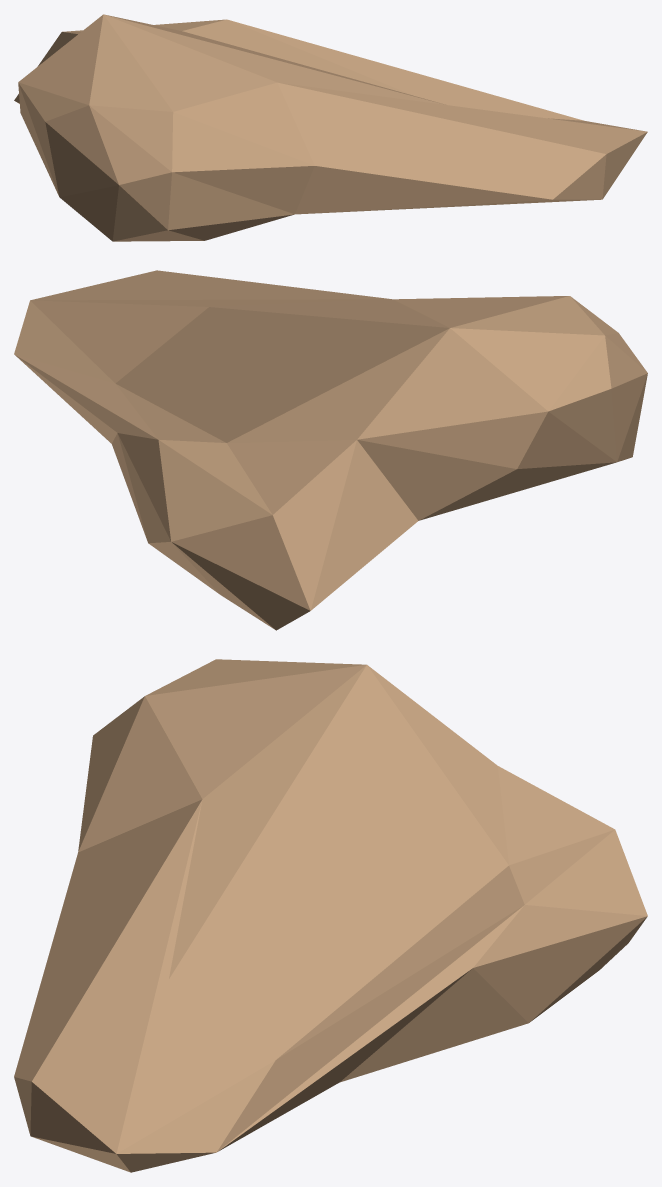
Rendered from Stone_5.fbx.
3 renders of one model, top to bottom at view 1: azimuth 30°, elevation 25°; view 2: azimuth 150°, elevation 25°; view 3: azimuth 270°, elevation 25°, orthographic. The views are drawn at different scales.
Parts seen in each view (by area): view 1: Stone_5; view 2: Stone_5; view 3: Stone_5.
Boxes of the visible parts, left/top/right/bottom form: Stone_5: left=14, top=14, right=647, bottom=241; Stone_5: left=14, top=270, right=647, bottom=630; Stone_5: left=14, top=659, right=647, bottom=1172.
Bounding box in the file's own units: 617 × 230 × 477.
